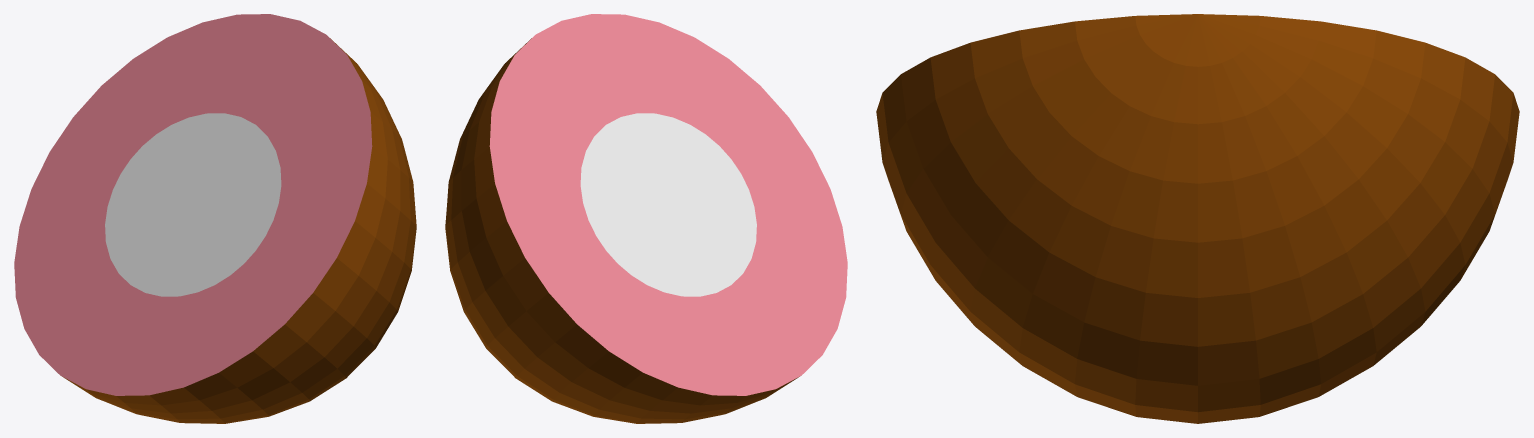
The model's file is Ham.fbx.
3 renders of one model, left to right at view 1: azimuth 30°, elevation 25°; view 2: azimuth 150°, elevation 25°; view 3: azimuth 270°, elevation 25°, orthographic. The views are drawn at different scales.
Visible parts, largest first — view 1: Sphere.003; view 2: Sphere.003; view 3: Sphere.003.
Boxes of the visible parts, box(x1,y1,x2,y2) form: Sphere.003: box(14, 14, 416, 423); Sphere.003: box(445, 14, 847, 423); Sphere.003: box(876, 14, 1519, 423).
Size of the model in its own units: 40.22 by 40.04 by 51.6.
